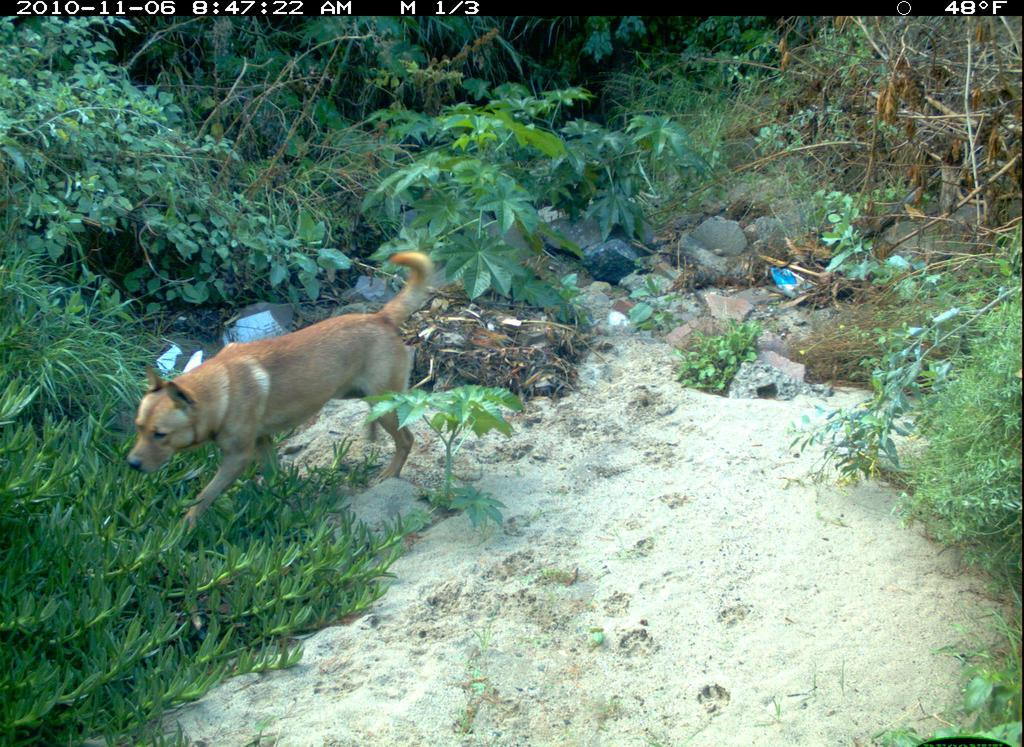dog: (94, 242, 455, 559)
